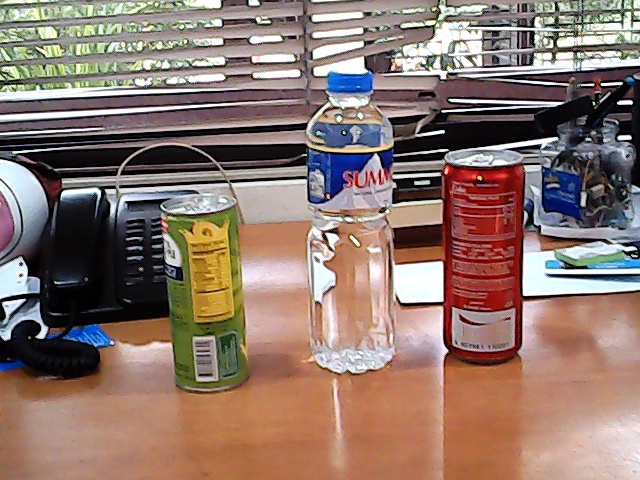Cola: (436, 150, 531, 365)
Pine Juice: (164, 196, 242, 397)
Summit Water: (303, 68, 400, 375)
